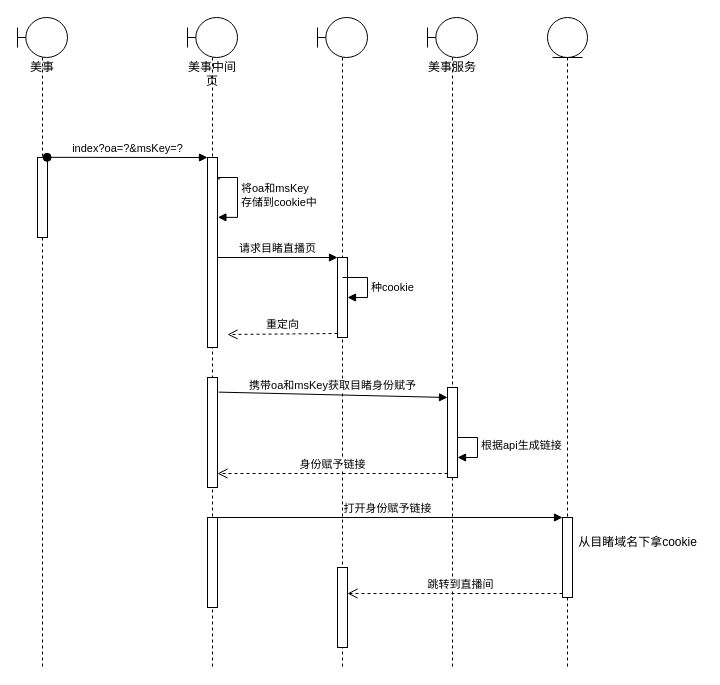
The diagram is 720 pixels wide and 685 high, and some of its shapes have lost their labels. The box of each missing label's shape, as (x1, y1, x2, y2) in pixels:
目睹直播间: (316, 16, 368, 668)
目睹身份授予接口: (546, 16, 588, 668)
